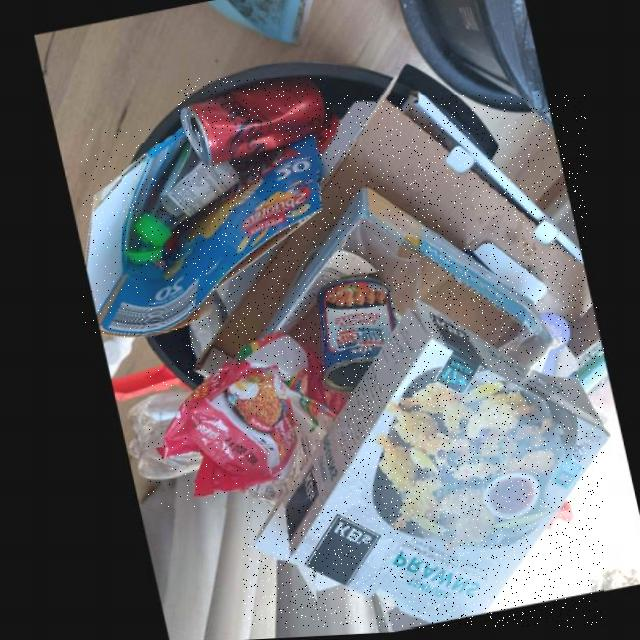metal: (178, 79, 324, 167), (311, 280, 392, 396)
paper: (243, 304, 604, 628), (189, 96, 587, 378), (252, 192, 548, 372), (81, 129, 320, 338)
plastic: (149, 337, 344, 508), (122, 144, 236, 263)
